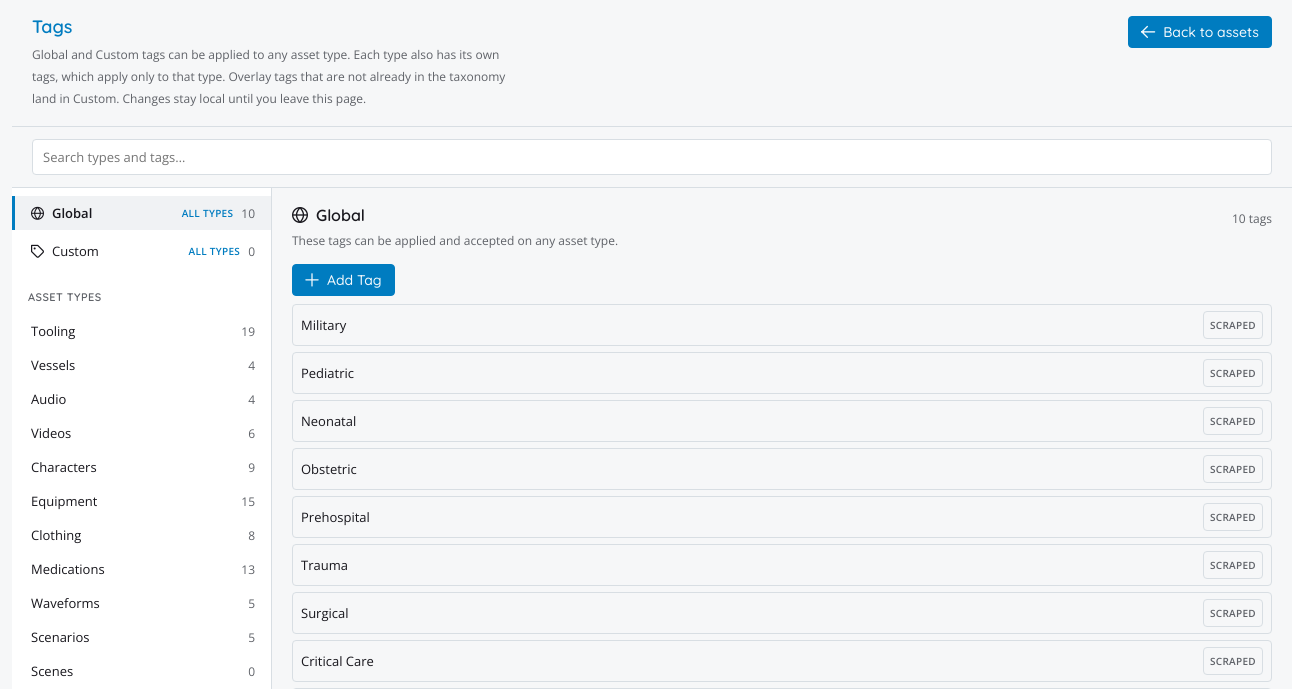
Test: TagsPageComponent › shows type-only copy when a type group is selected
This screenshot has width=1292, height=689.
Click the button with class "nav-item" showing "Tooling 19" at {"x": 142, "y": 331}, box [12, 314, 271, 348]
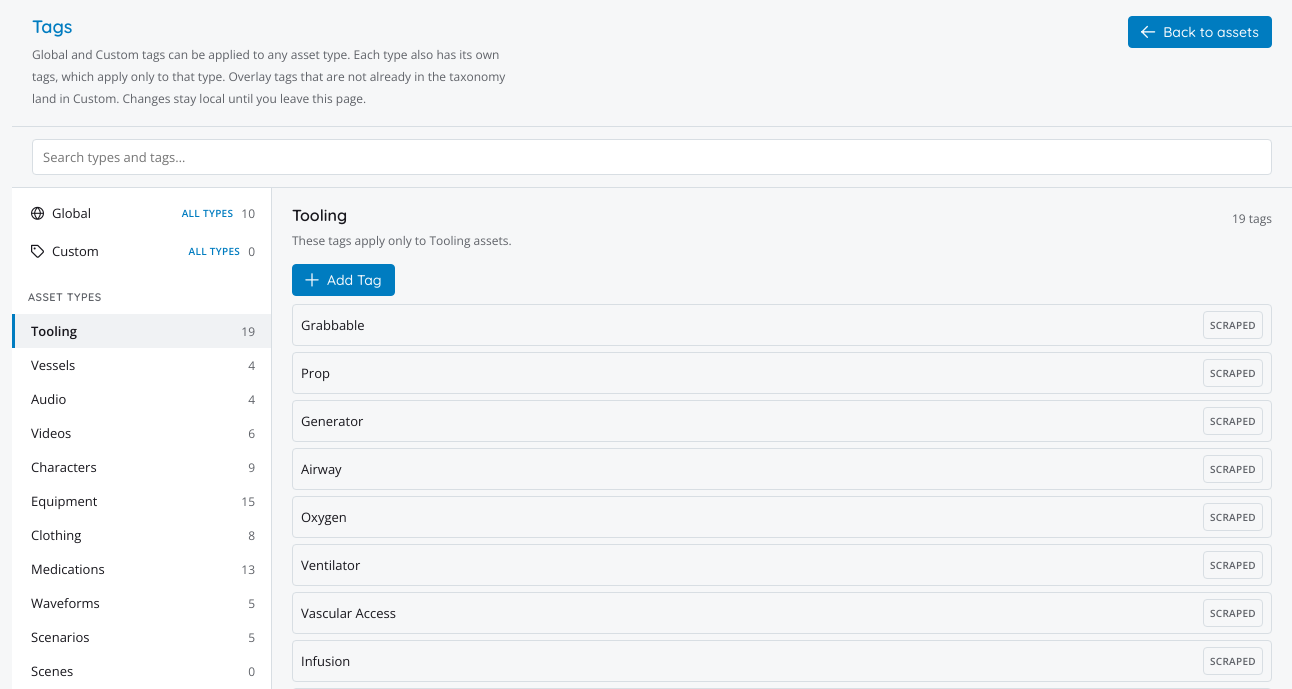
Expected: the text "Scraped" is shown, [1203, 311, 1263, 339]
Expected: the text "These tags apply only to Tooling assets." is shown, [292, 230, 512, 252]
Expected: the text "Grabbable" is shown, [301, 316, 365, 334]
